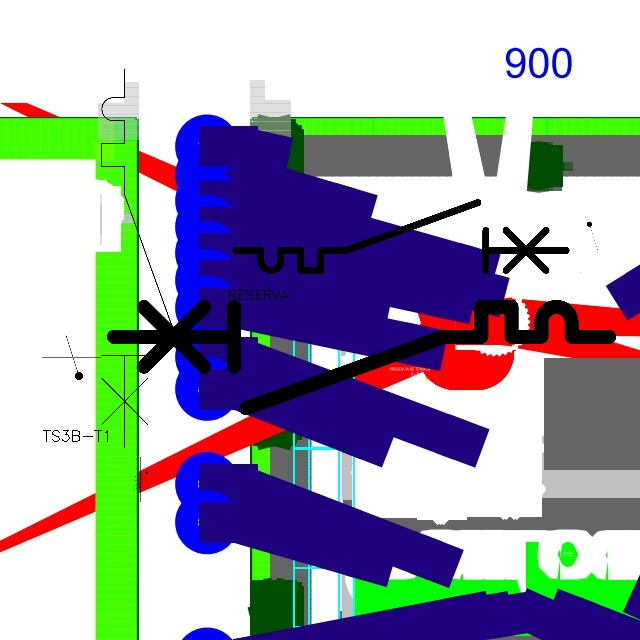interruptor_termomagnetico: (100, 294, 621, 421), (92, 59, 189, 457), (227, 194, 575, 279)
